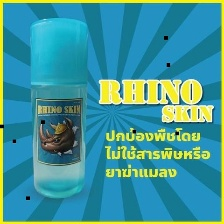insecticide: (23, 16, 94, 203)
